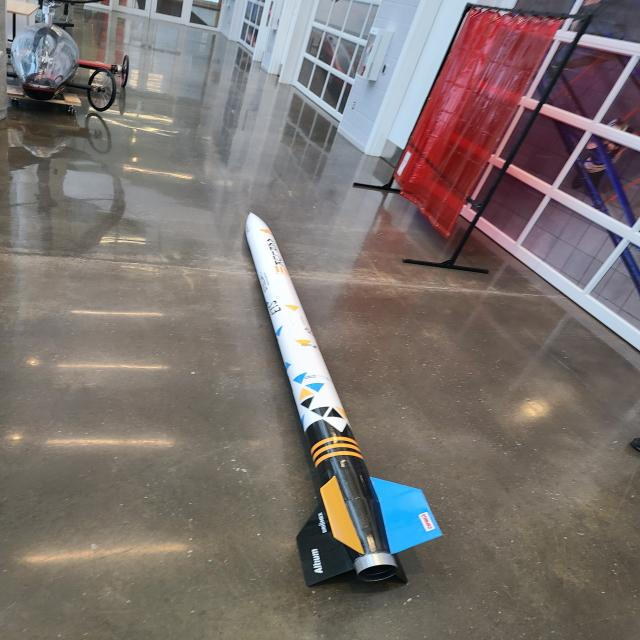Rocket: (245, 211, 443, 586)
